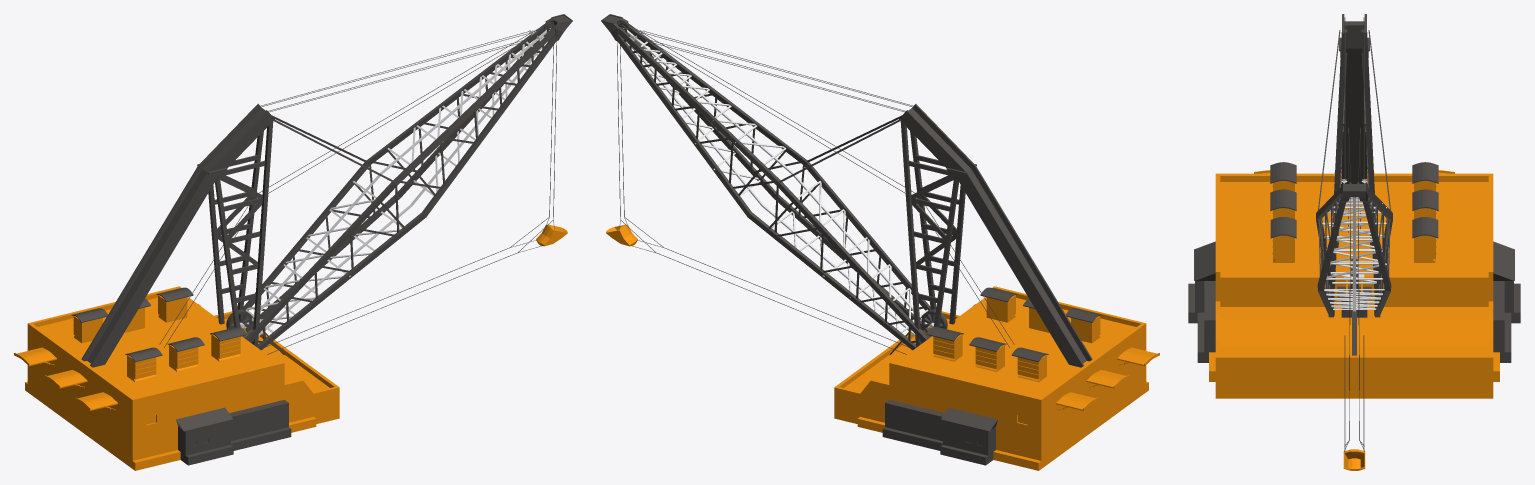
Rendered from drag line boom.fbx.
The picture shows the model from 3 angles, left to right: view 1: azimuth 30°, elevation 25°; view 2: azimuth 150°, elevation 25°; view 3: azimuth 270°, elevation 25°; orthographic projection. The views are drawn at different scales.
Parts seen in each view (by area): view 1: Plane, Plane.011, Plane.005, Plane.007, Plane.008, Plane.001, Plane.016, Cube.003, Plane.002, Cylinder.003, Plane.004, Plane.010 (+3 smaller); view 2: Plane, Plane.011, Plane.005, Plane.007, Plane.008, Plane.001, Plane.016, Cube.003, Plane.002, Cylinder.003, Plane.004, Plane.010 (+3 smaller); view 3: Plane, Plane.007, Plane.005, Plane.002, Plane.011, Plane.008, Plane.001, Cylinder.003, Plane.010, Cylinder.001, Cube.002, Cube (+3 smaller).
Part boxes in pixels (x1=…): Plane: x1=25, y1=286, x2=339, y2=470; Plane.011: x1=243, y1=22, x2=556, y2=350; Plane.005: x1=81, y1=104, x2=274, y2=367; Plane.007: x1=176, y1=400, x2=291, y2=465; Plane.008: x1=208, y1=120, x2=273, y2=347; Plane.001: x1=73, y1=295, x2=240, y2=382; Plane.016: x1=214, y1=155, x2=265, y2=302; Cube.003: x1=244, y1=27, x2=551, y2=336; Plane.002: x1=71, y1=287, x2=247, y2=361; Cylinder.003: x1=159, y1=22, x2=556, y2=347; Plane.004: x1=14, y1=347, x2=117, y2=410; Plane.010: x1=271, y1=115, x2=394, y2=182; Plane: x1=834, y1=286, x2=1148, y2=470; Plane.011: x1=617, y1=22, x2=930, y2=350; Plane.005: x1=899, y1=104, x2=1092, y2=367; Plane.007: x1=882, y1=400, x2=997, y2=465; Plane.008: x1=900, y1=120, x2=965, y2=347; Plane.001: x1=933, y1=295, x2=1100, y2=382; Plane.016: x1=908, y1=155, x2=959, y2=302; Cube.003: x1=622, y1=27, x2=929, y2=335; Plane.002: x1=926, y1=287, x2=1102, y2=361; Cylinder.003: x1=617, y1=22, x2=1014, y2=347; Plane.004: x1=1056, y1=347, x2=1159, y2=410; Plane.010: x1=779, y1=115, x2=902, y2=182; Plane: x1=1209, y1=173, x2=1499, y2=398; Plane.007: x1=1188, y1=241, x2=1520, y2=362; Plane.005: x1=1342, y1=14, x2=1366, y2=183; Plane.002: x1=1270, y1=162, x2=1438, y2=238; Plane.011: x1=1316, y1=187, x2=1392, y2=316; Plane.008: x1=1328, y1=29, x2=1380, y2=317; Plane.001: x1=1272, y1=180, x2=1436, y2=262; Cylinder.003: x1=1348, y1=127, x2=1360, y2=440; Plane.010: x1=1318, y1=30, x2=1390, y2=210; Cylinder.001: x1=1344, y1=17, x2=1364, y2=178; Cube.002: x1=1343, y1=449, x2=1365, y2=470; Cube: x1=1337, y1=286, x2=1371, y2=317.
Size of the model in its own units: 570 by 310 by 240.
